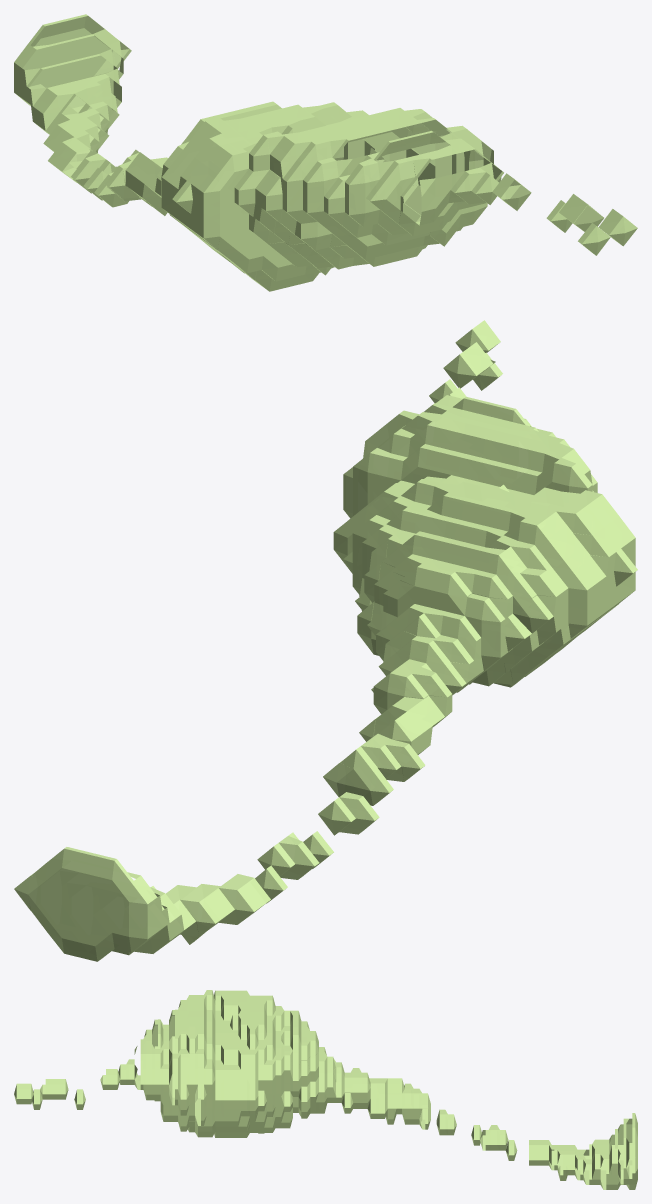
Rendered from SVV_DB1.gltf.
3 views of the same model, one above another, from view 1: azimuth 30°, elevation 25°; view 2: azimuth 150°, elevation 25°; view 3: azimuth 270°, elevation 25° (orthographic). The views are drawn at different scales.
Parts seen in each view (by area): view 1: DB1; view 2: DB1; view 3: DB1.
Part boxes in pixels (x1,y1,x2,y2): DB1: (14, 14, 637, 291); DB1: (14, 320, 637, 961); DB1: (14, 990, 637, 1189).
Bounding box in the file's own units: 10752 × 8186 × 27791.
